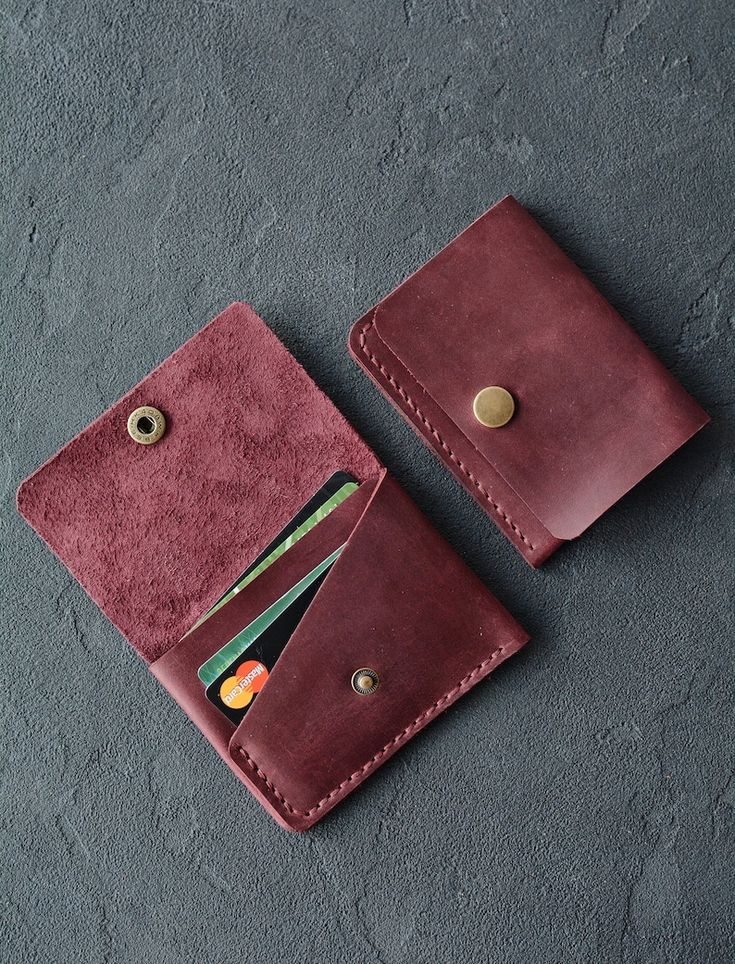cuero: (19, 192, 713, 835)
